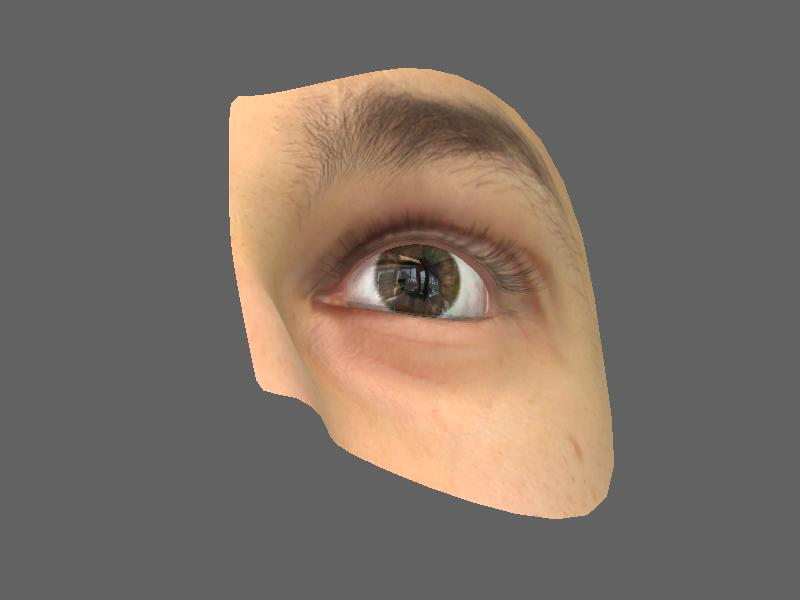iris: (375, 242, 464, 315)
